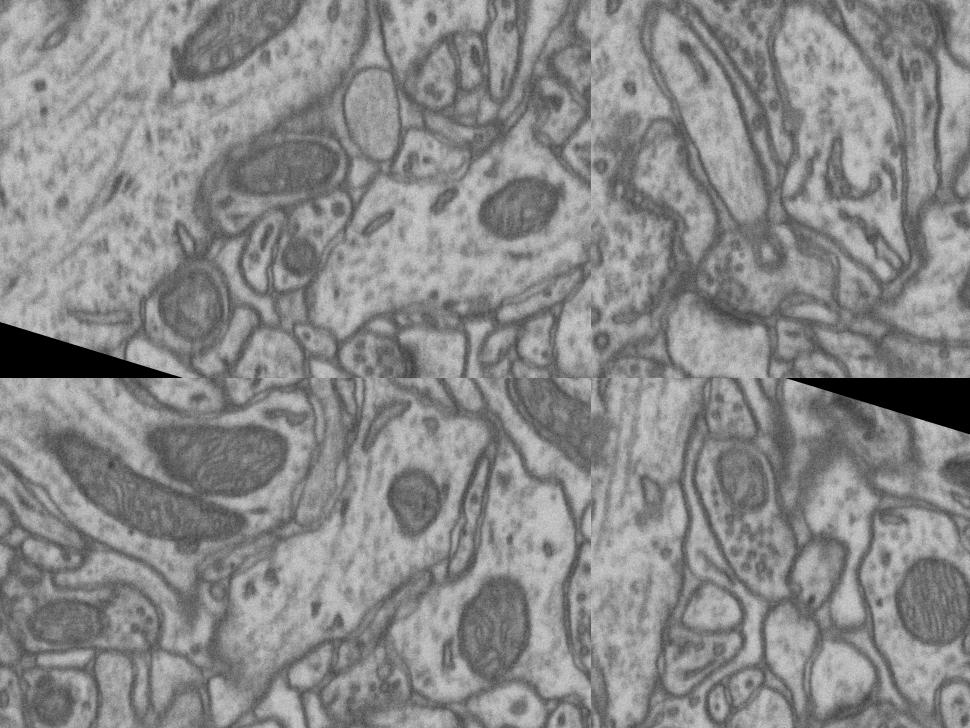mitochondria: (32, 417, 266, 570), (127, 387, 306, 523), (159, 0, 336, 118), (207, 102, 358, 233), (435, 560, 551, 698), (864, 527, 970, 665), (140, 248, 250, 362), (482, 378, 591, 488), (465, 156, 574, 262), (690, 414, 790, 518), (371, 454, 458, 550), (20, 580, 117, 665), (19, 0, 170, 50), (261, 214, 338, 301), (20, 674, 86, 728), (943, 208, 970, 339), (665, 0, 772, 17), (573, 582, 591, 671)
